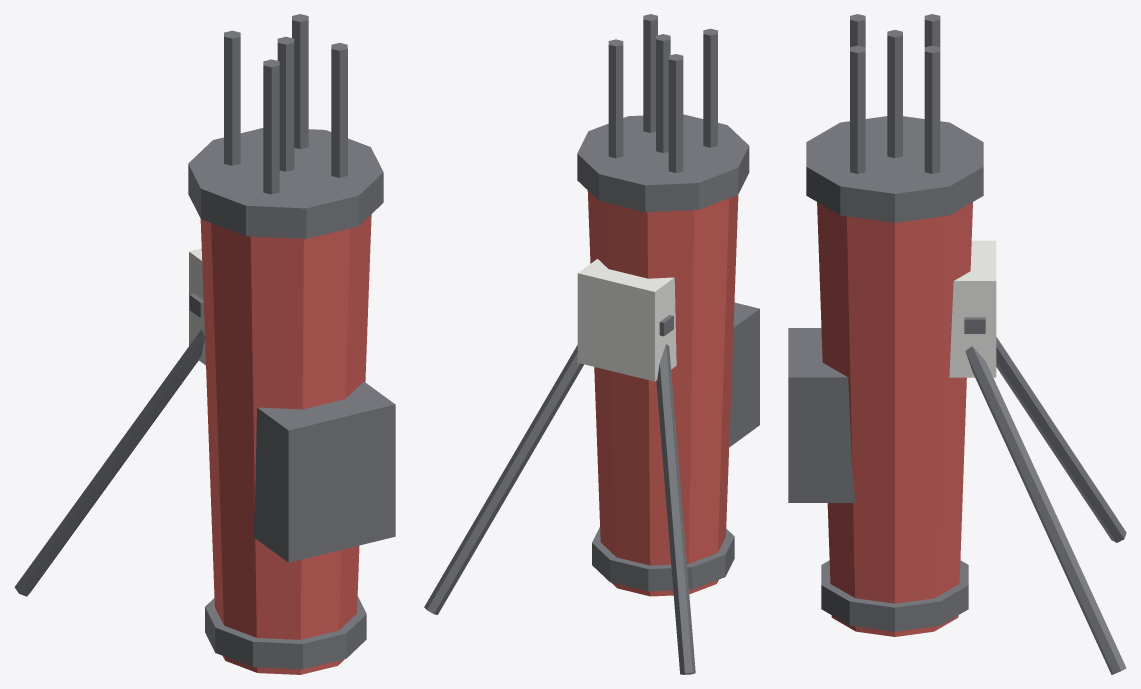
Rendered from golf-course-and-clubhouse-golf-bag-stand-f16b828d__33478.glb.
3 views of the same model, side by side, from view 1: azimuth 30°, elevation 25°; view 2: azimuth 150°, elevation 25°; view 3: azimuth 270°, elevation 25° (orthographic). The views are drawn at different scales.
Parts seen in each view (by area): view 1: golf-bag-stand; view 2: golf-bag-stand; view 3: golf-bag-stand.
Part boxes in pixels (x1,y1,x2,y2): golf-bag-stand: (14, 14, 395, 674); golf-bag-stand: (424, 14, 759, 674); golf-bag-stand: (788, 14, 1126, 674).
Bounding box in the file's own units: 0.6271 × 1.19 × 0.6342.
